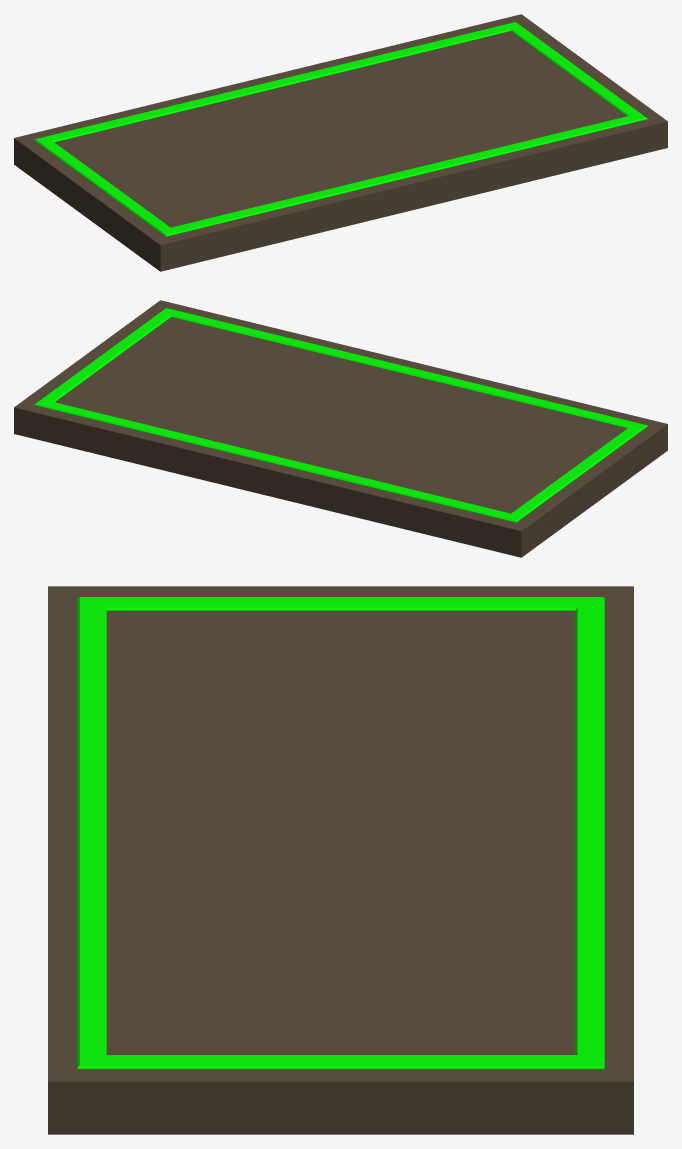
File: containerSpot.fbx
3 views of the same model, one above another, from view 1: azimuth 30°, elevation 25°; view 2: azimuth 150°, elevation 25°; view 3: azimuth 270°, elevation 25° (orthographic). The views are drawn at different scales.
Visible parts, largest first — view 1: containerSpot; view 2: containerSpot; view 3: containerSpot.
Boxes of the visible parts, bbox=[...] form: containerSpot: bbox=[14, 14, 667, 271]; containerSpot: bbox=[14, 300, 667, 557]; containerSpot: bbox=[48, 586, 633, 1134].
Bounding box in the file's own units: 200 × 10.5 × 100.
Materials: 1 (1 with a texture image).
